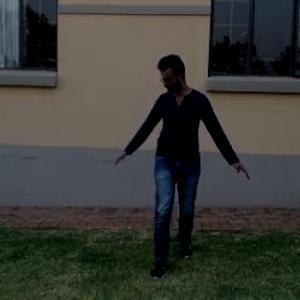land: (99, 43, 252, 270)
